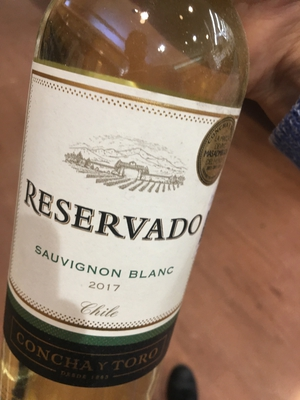reservado sauvignon blanc: (18, 8, 238, 400)
